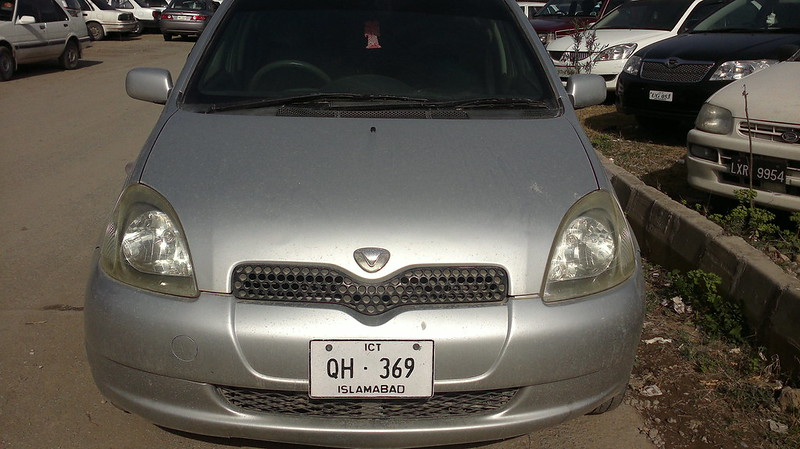number_plate: (299, 335, 448, 407)
